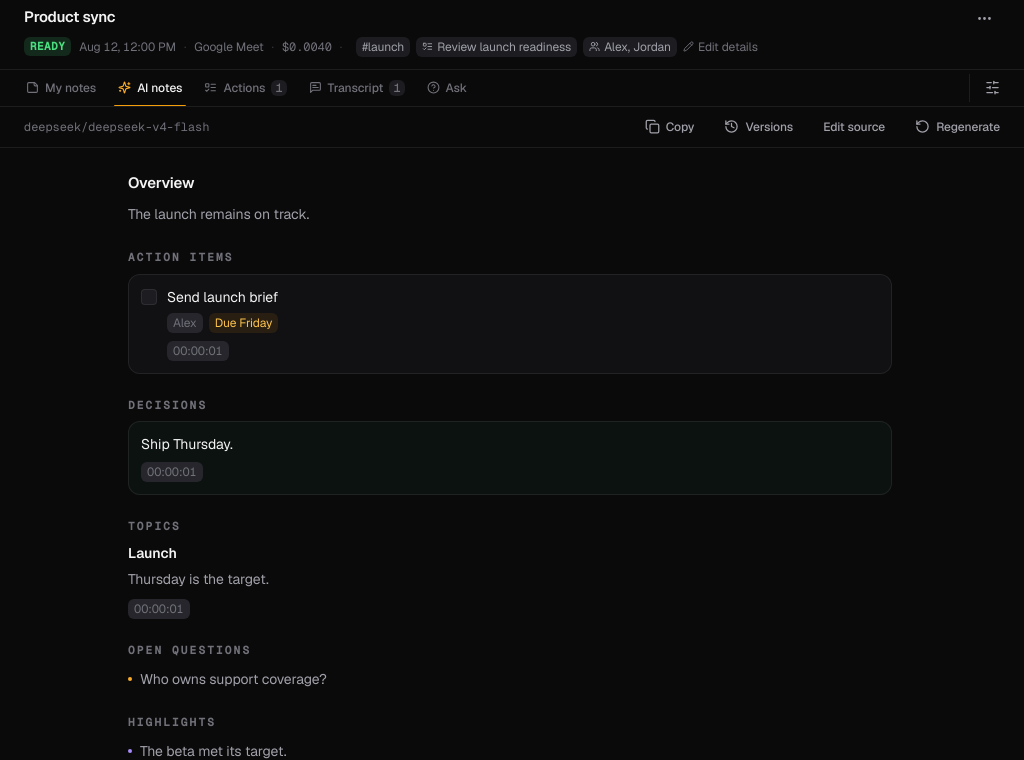
Scenario: MeetingWorkspace › saves the current meeting configuration as a reusable setup
expect the text "The launch remains on track." is shown: met, box [128,205,309,223]
Step 1. Click the button named "Meeting actions" → (984, 18), box [968,4,1000,32]
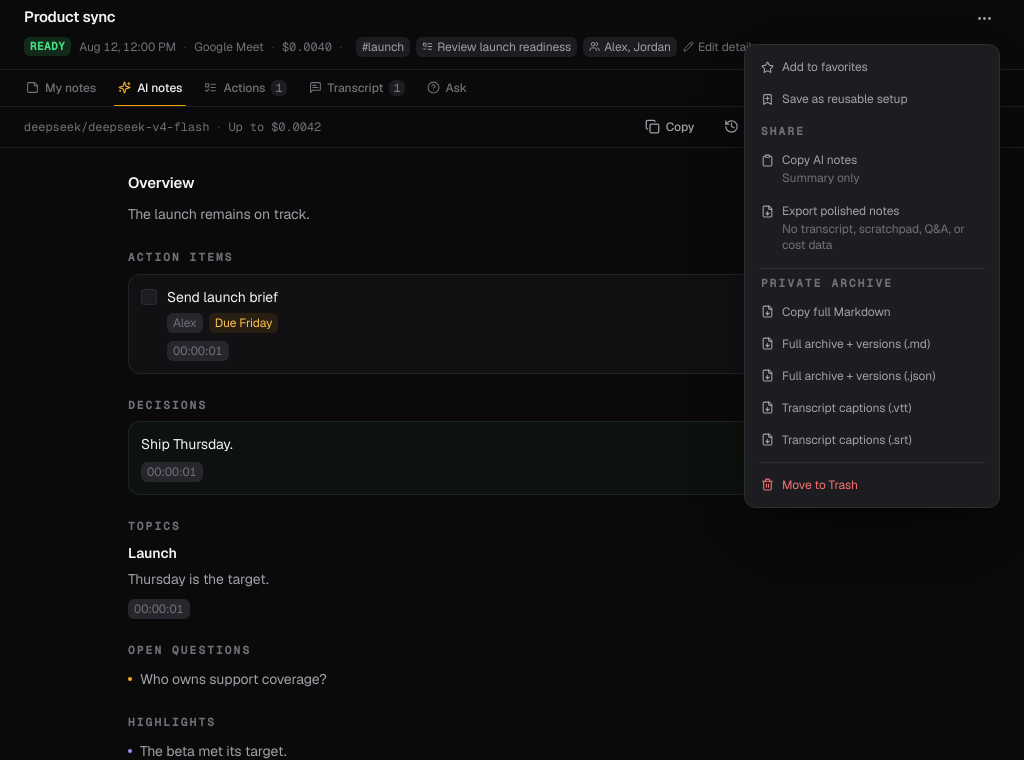
Step 2. Click the button "Save as reusable setup" → (872, 99), box [751,83,993,115]
(page scrolled)
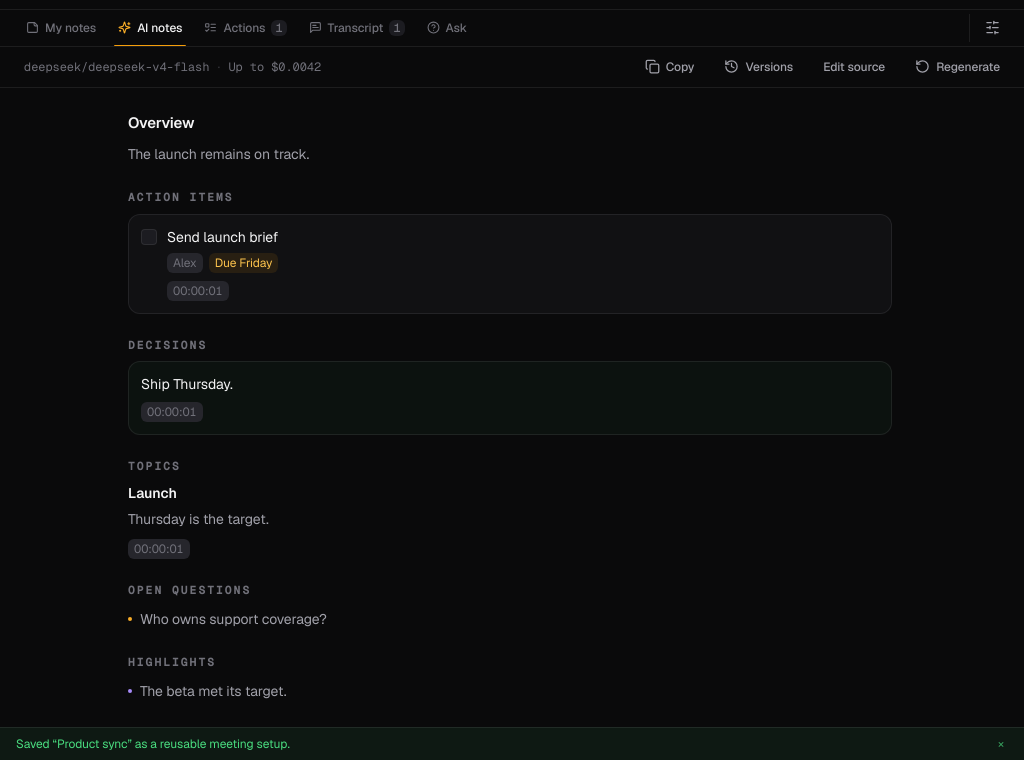
expect the text "Saved “Product sync” as a reusable meeting setup." is shown: met, box [16,736,290,752]
